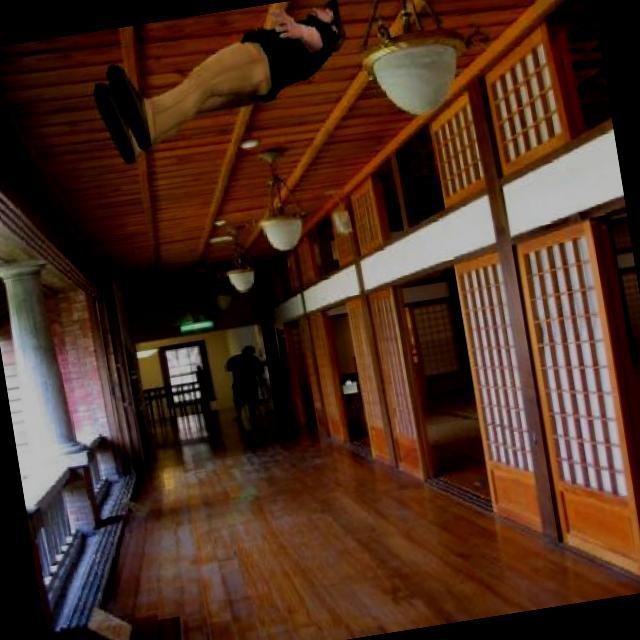Person: (81, 0, 362, 170)
